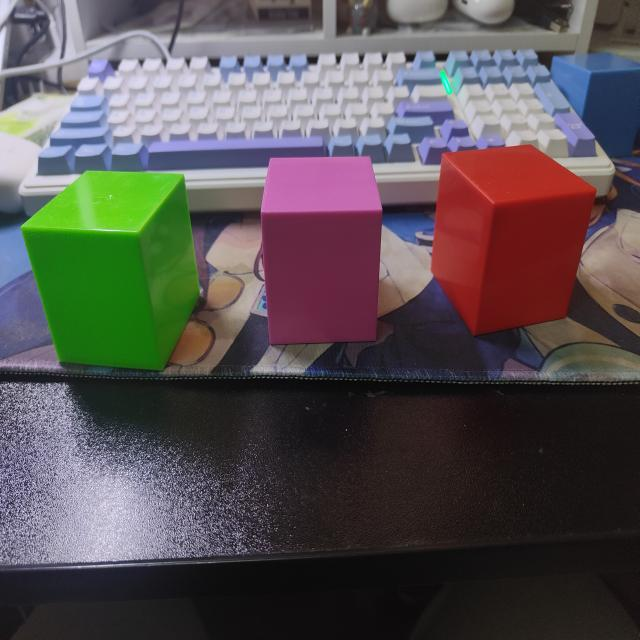green: (20, 172, 200, 376)
pink: (259, 157, 384, 348)
red: (430, 145, 597, 339)
